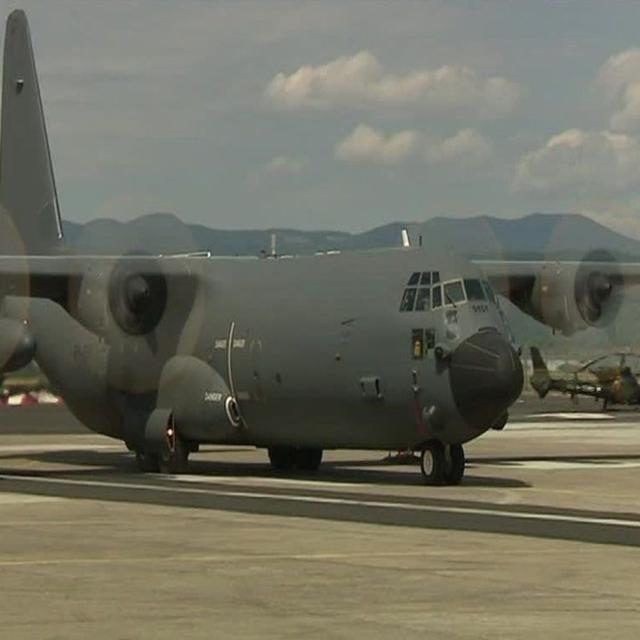C130: (3, 2, 552, 512)
